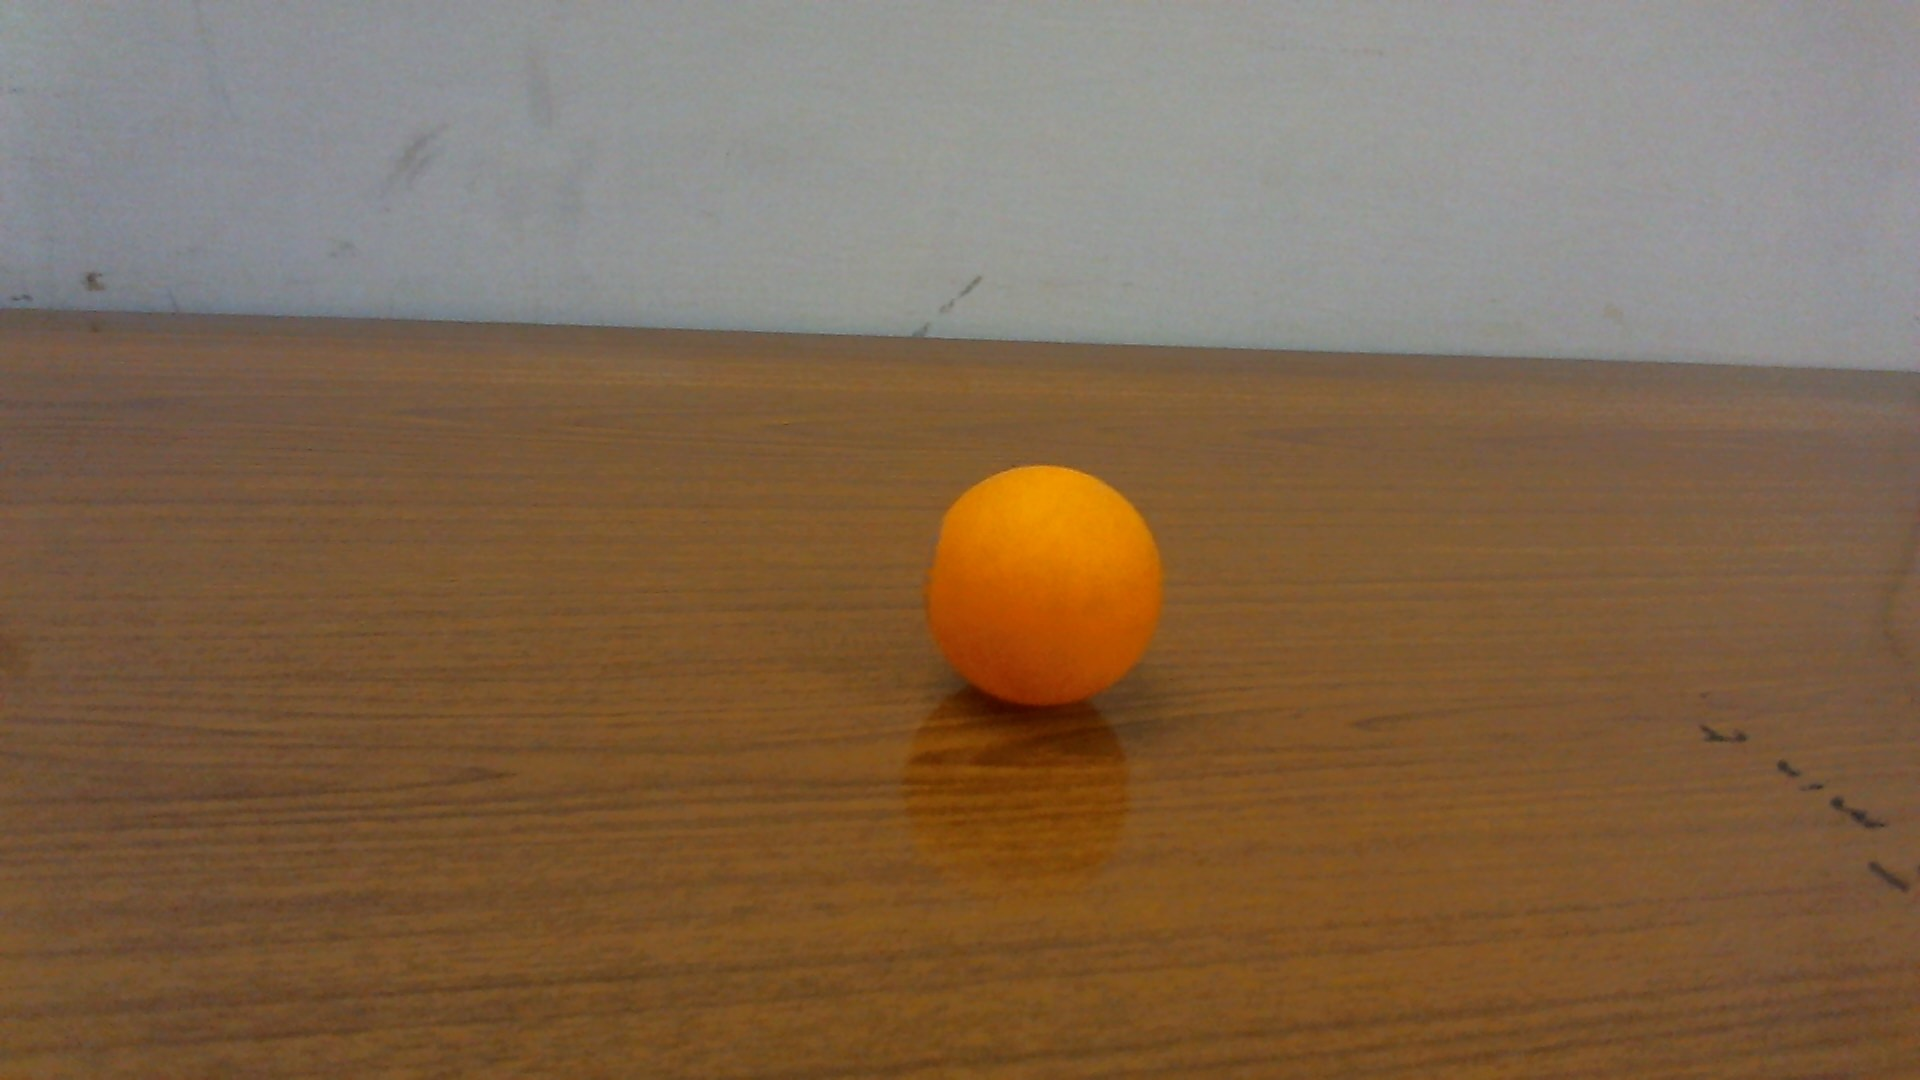ball: (922, 465, 1168, 709)
